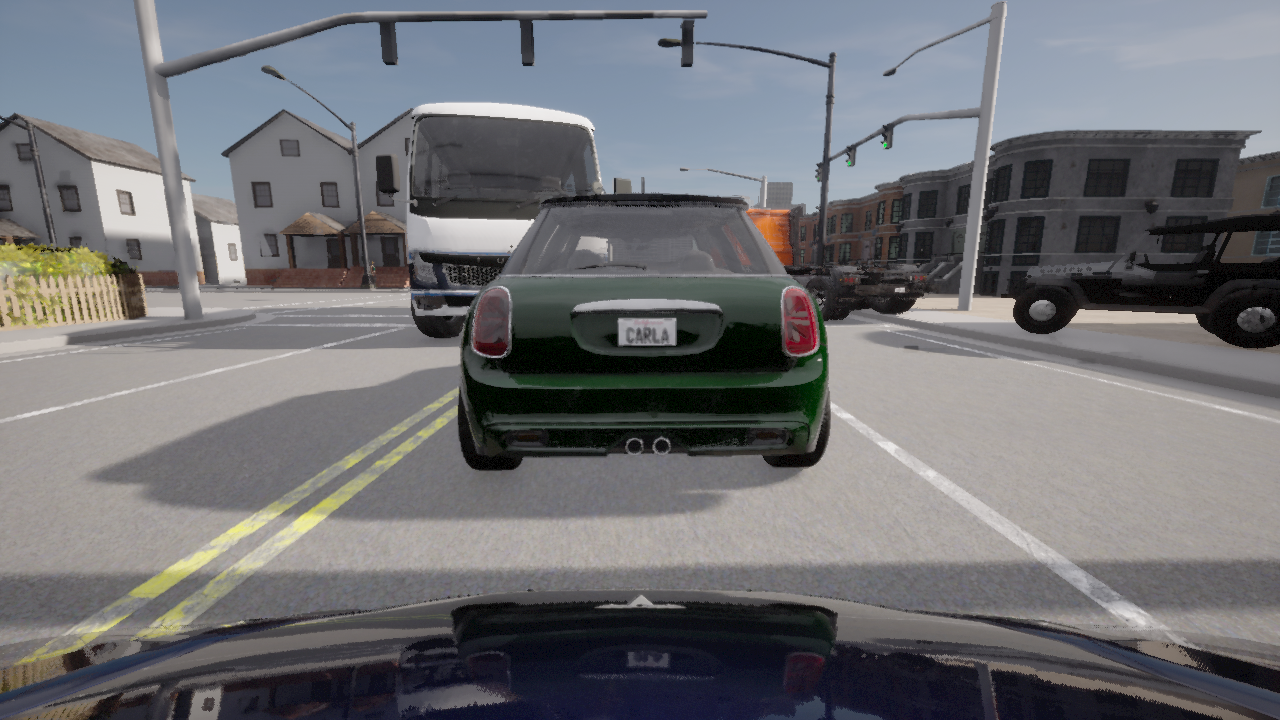cyclist: (0, 588, 1279, 719), (458, 177, 830, 469), (376, 102, 631, 338), (1000, 213, 1279, 349), (745, 205, 940, 320)
pedestrian: (370, 261, 376, 289)
